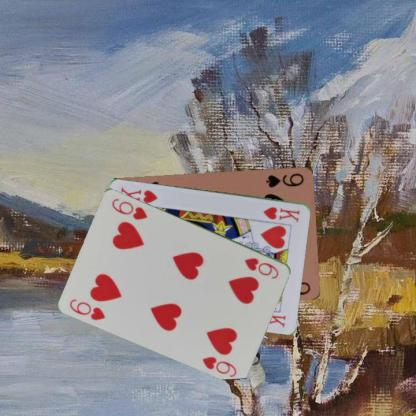6h: (67, 296, 107, 321), (242, 255, 280, 280)
9s: (264, 171, 305, 188)
Kh: (261, 204, 301, 224)
